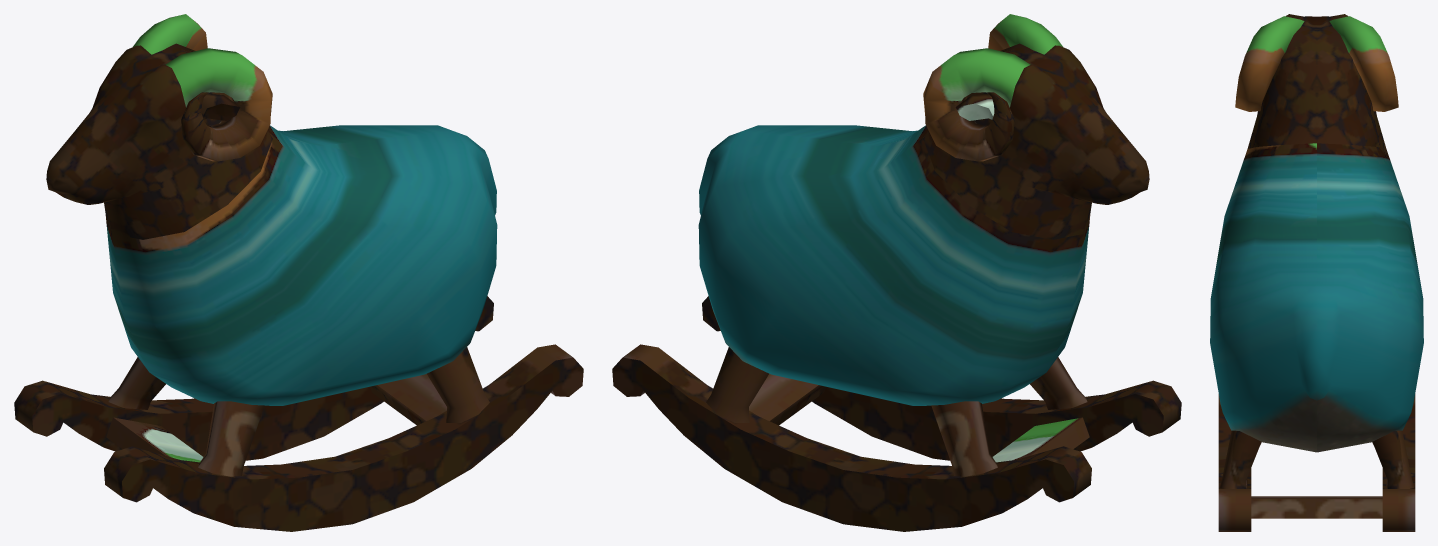
File: zodiac_aries.fbx
The picture shows the model from 3 angles, left to right: view 1: azimuth 30°, elevation 25°; view 2: azimuth 150°, elevation 25°; view 3: azimuth 270°, elevation 25°; orthographic projection. The views are drawn at different scales.
Parts seen in each view (by area): view 1: ZodiacAries; view 2: ZodiacAries; view 3: ZodiacAries.
Boxes of the visible parts, x1=… form: ZodiacAries: x1=14, y1=14, x2=583, y2=531; ZodiacAries: x1=612, y1=14, x2=1181, y2=531; ZodiacAries: x1=1210, y1=14, x2=1423, y2=531.
Bounding box in the file's own units: 93.37 × 87.69 × 39.16.
